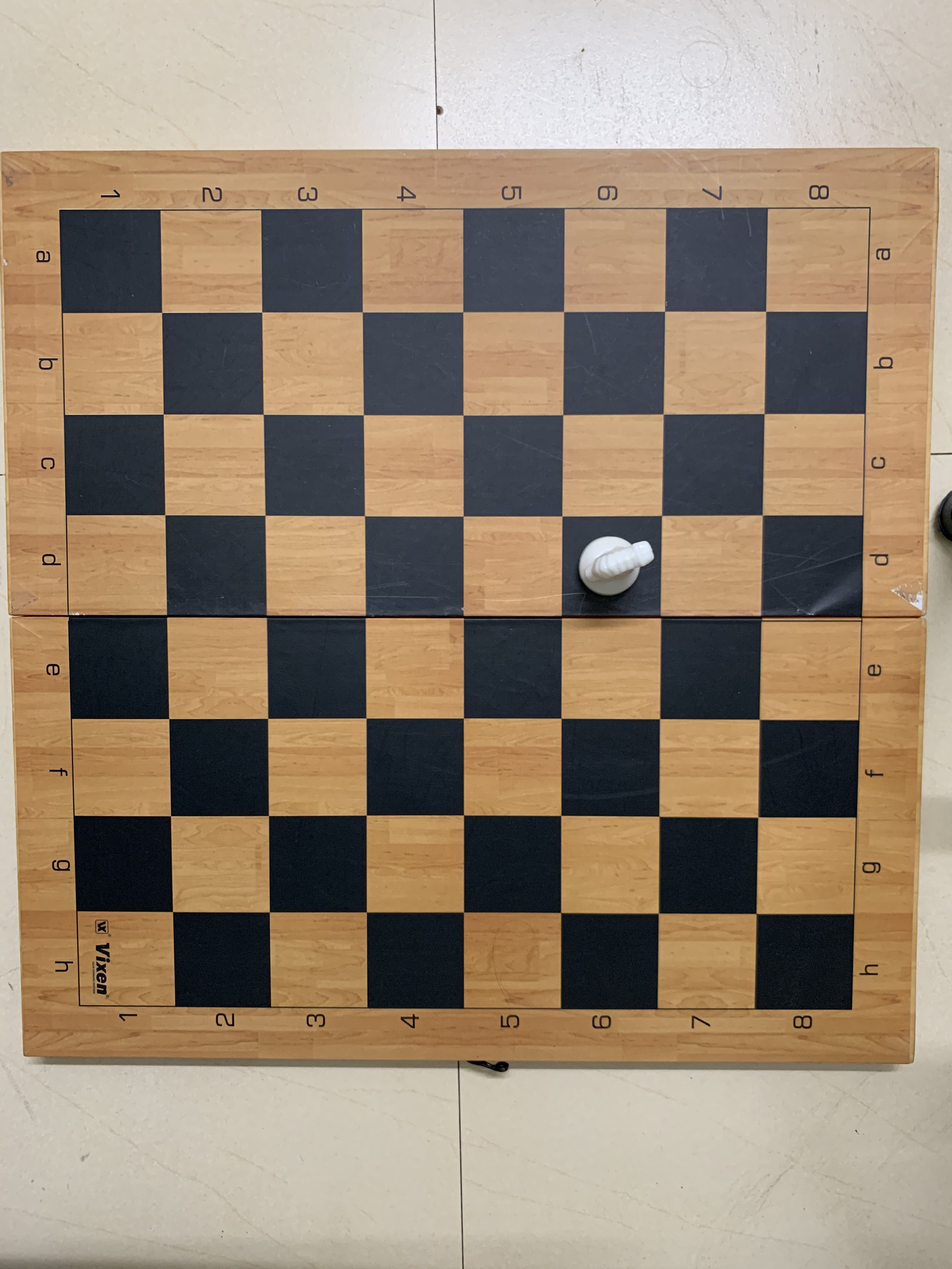white_knight: (567, 520, 662, 613)
